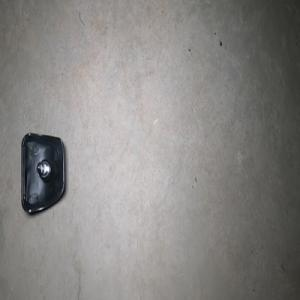LuggagePart: (20, 131, 66, 216)
